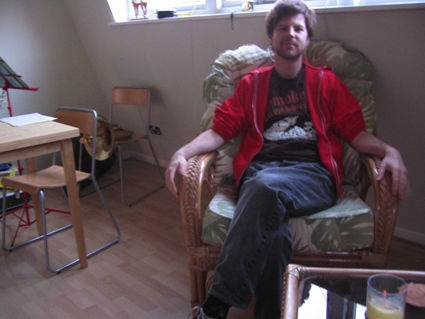head: (266, 1, 318, 61)
person: (171, 3, 390, 319)
